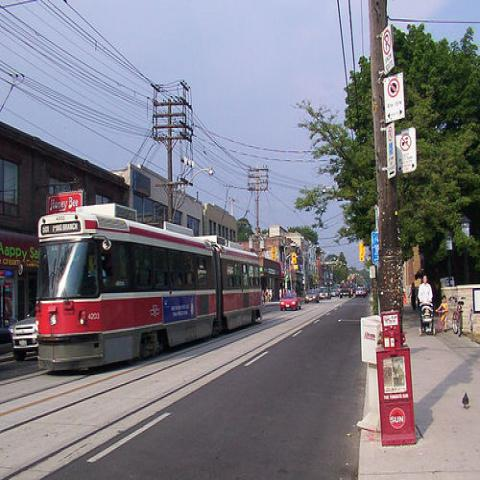car: (5, 310, 40, 361), (278, 293, 302, 311), (304, 289, 319, 304), (319, 286, 332, 298), (355, 285, 367, 298), (340, 287, 350, 298), (330, 288, 340, 297)
truck: (8, 307, 39, 361)
